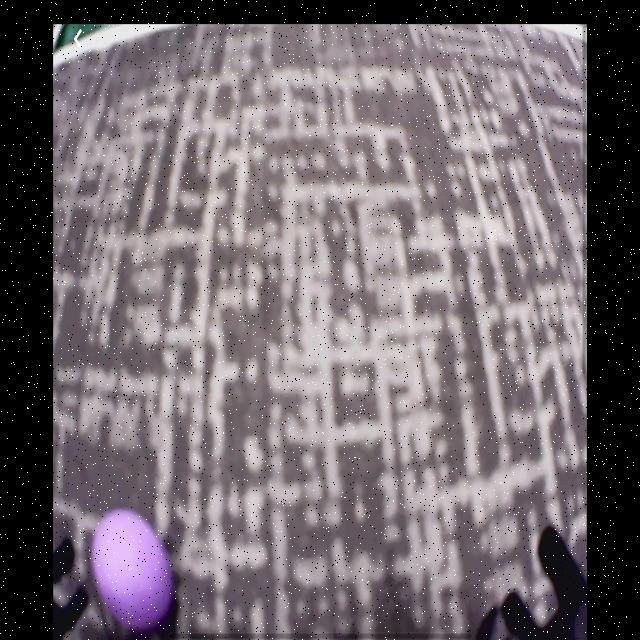ball: (90, 511, 173, 632)
